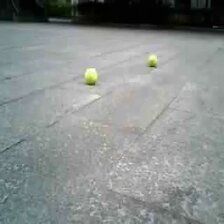tennis: (86, 69, 97, 82), (149, 56, 157, 66)
